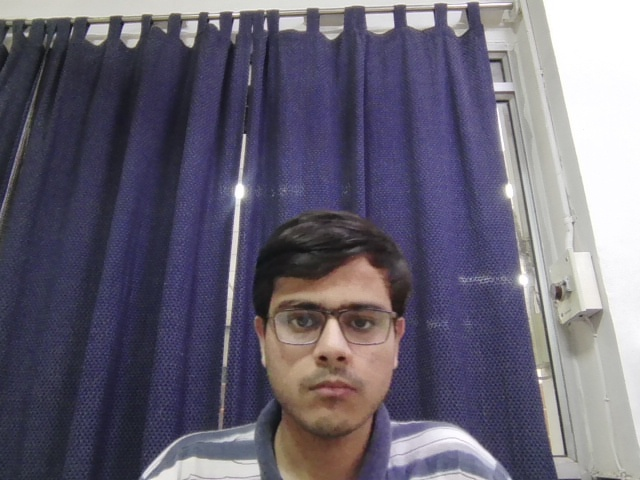face: (254, 211, 412, 436)
